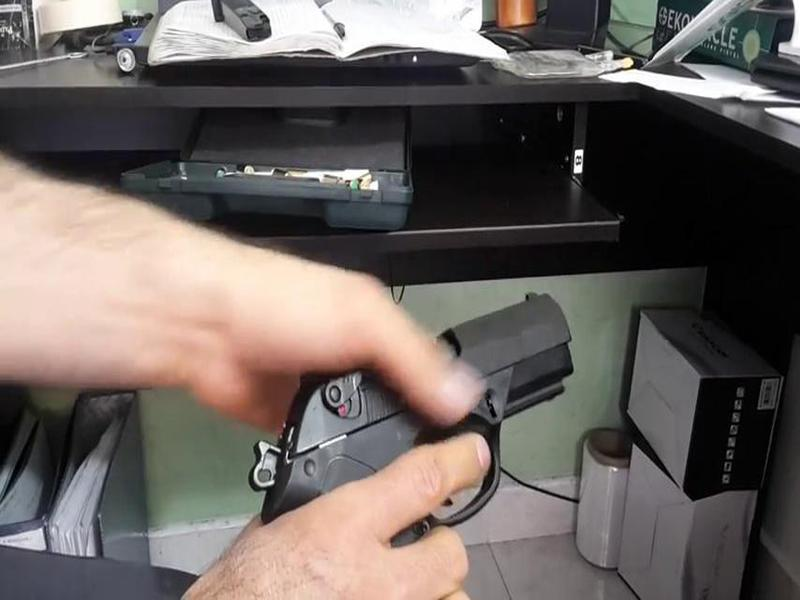Pistola: (254, 274, 584, 572)
